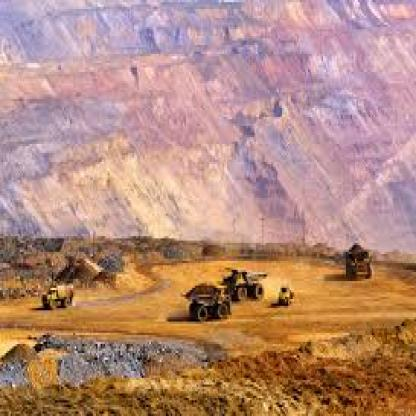dump_truck: (180, 277, 236, 326), (338, 232, 374, 290)
